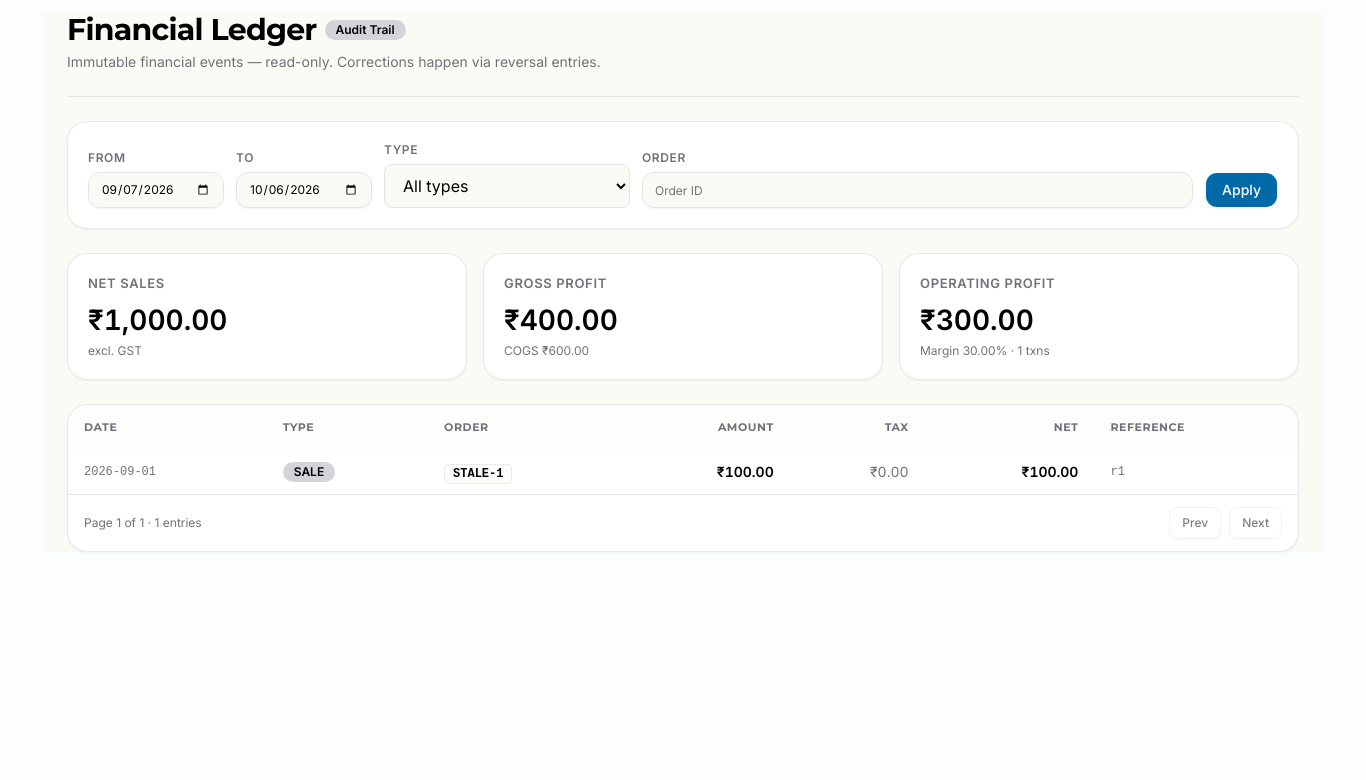
Test: ledger error clears stale rows and summary
The image size is (1366, 780).
Check: the text "STALE-1" is shown, box [444,464,512,484]
Check: the text "Net sales" is shown, box [88,274,165,293]
Step 1. Click the button "Apply" → (1242, 190), box [1205,172,1278,208]
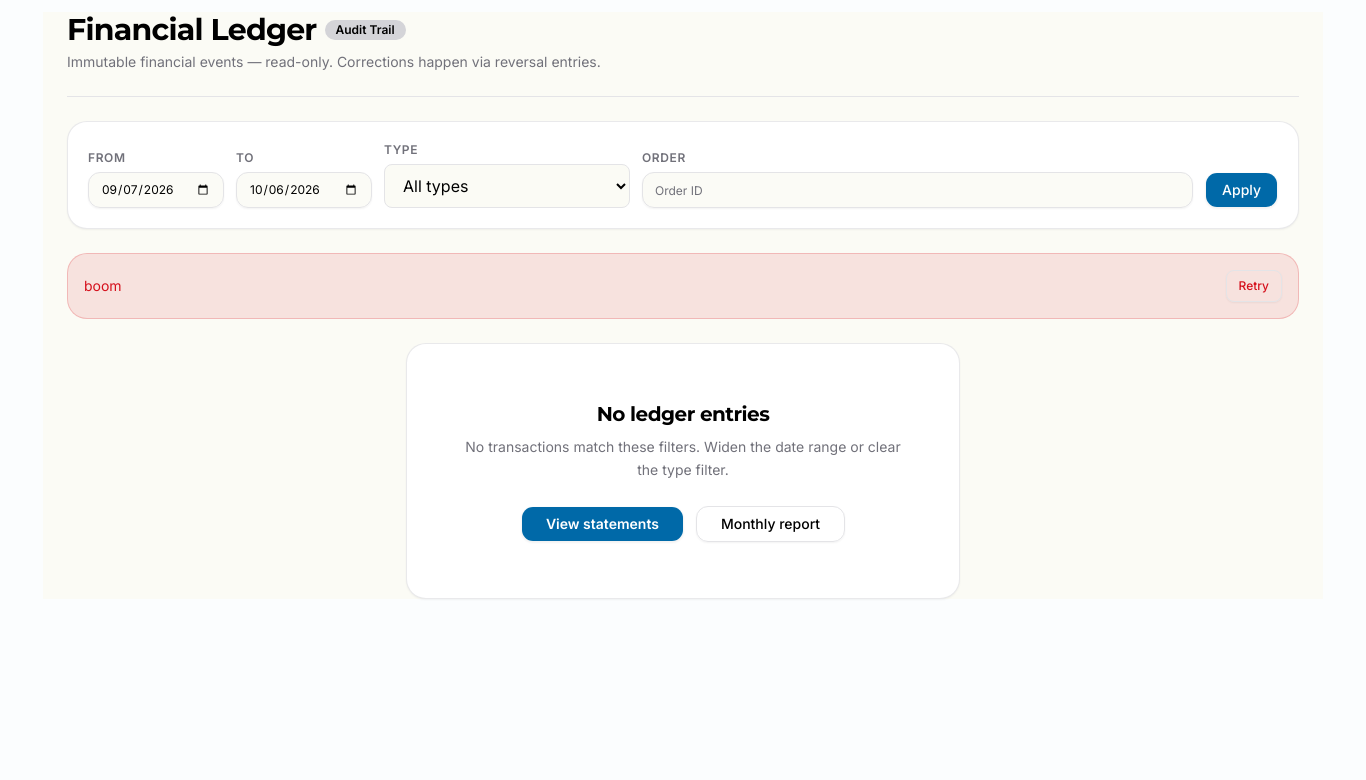
Check: the message "boom Retry" is shown, box [67,253,1299,319]
Check: the text "STALE-1" is gone
Check: the text "Net sales" is gone
